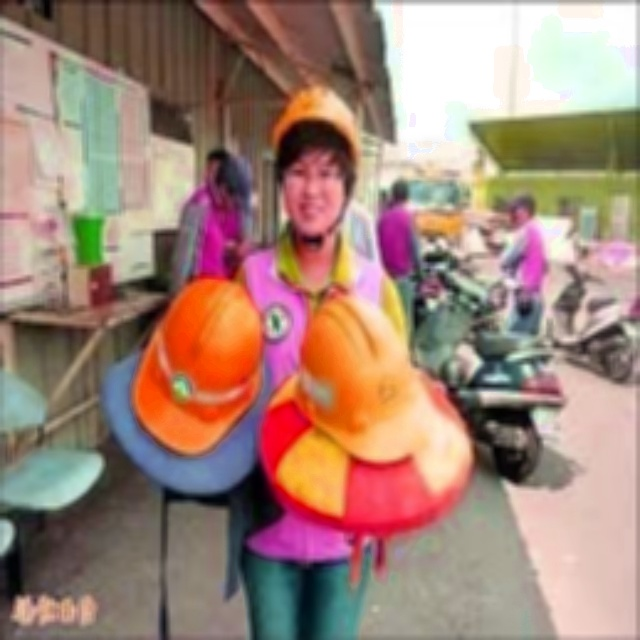Con_Casco: (270, 84, 361, 241)
